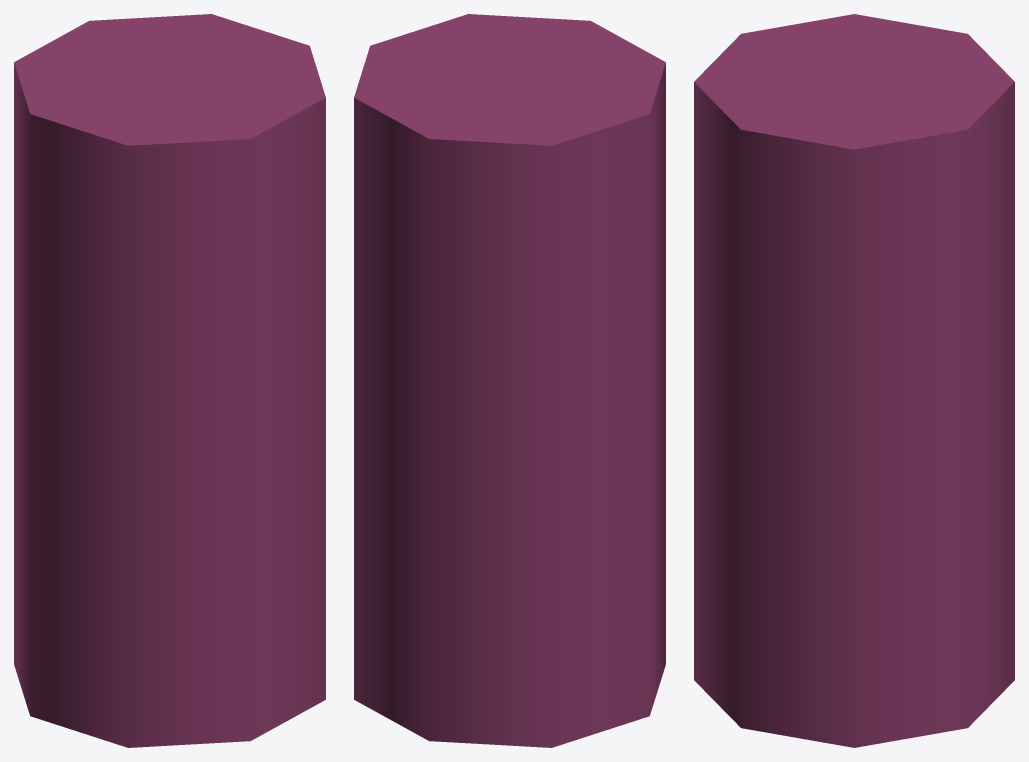
File: Player_LeftLeg.obj
3 renders of one model, left to right at view 1: azimuth 30°, elevation 25°; view 2: azimuth 150°, elevation 25°; view 3: azimuth 270°, elevation 25°, orthographic.
Parts seen in each view (by area): view 1: LeftLeg; view 2: LeftLeg; view 3: LeftLeg.
Part boxes in pixels (bbox=[...]): LeftLeg: bbox=[14, 14, 325, 747]; LeftLeg: bbox=[354, 14, 665, 747]; LeftLeg: bbox=[694, 14, 1014, 747].
Bounding box in the file's own units: 13.6 × 27.99 × 13.6.
